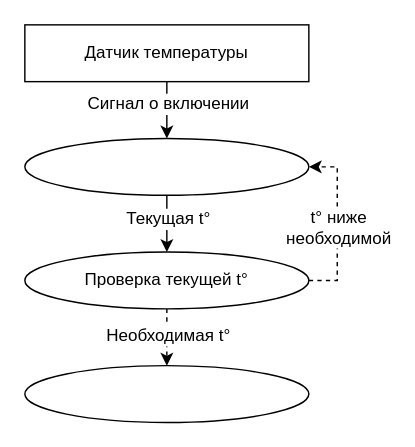
Some shapes in this 415 by 447 pixel diagram are drawn without their labels. The centre of each missing label's shape, as x and y in pixels:
"Сигнал о достижении необходимой t °" belongs at (x=166, y=393).
"Считывание текущей t °" belongs at (x=166, y=166).
